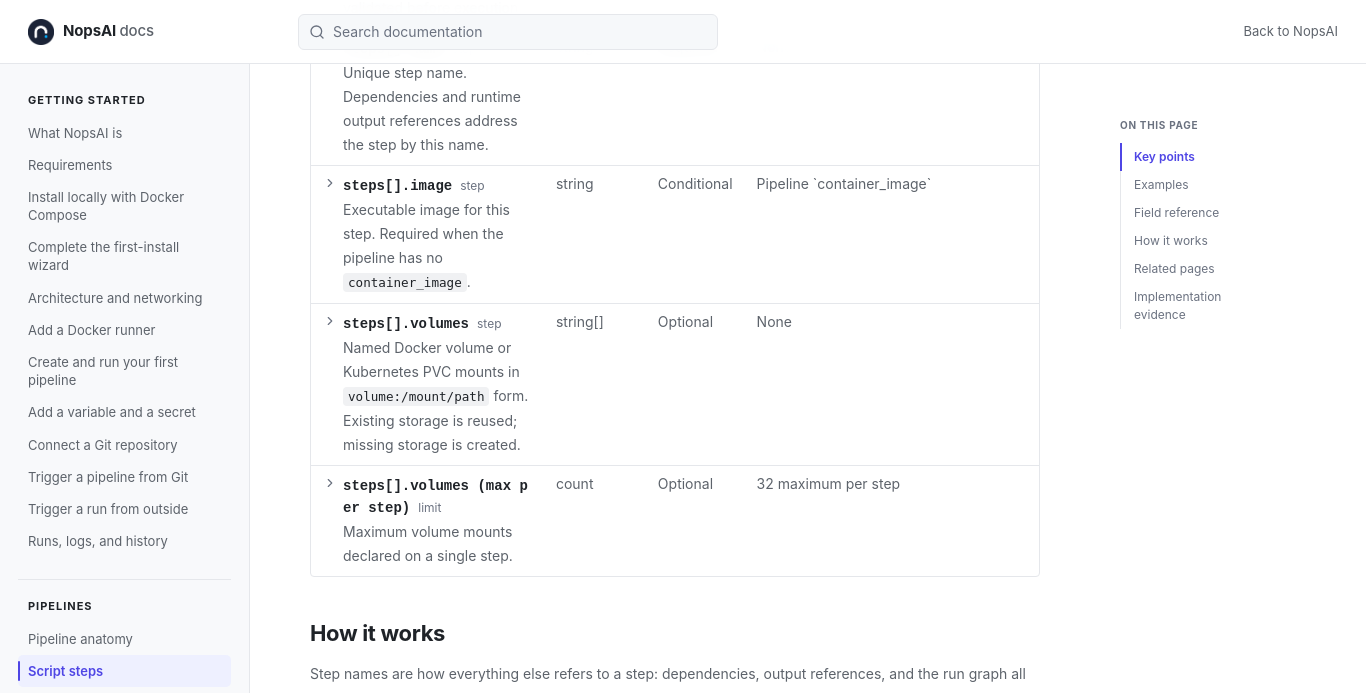
Test: ProductDocsPage › does not carry an expanded field row onto the next page
(page scrolled)
What coordinates should you click on to do the following:
click the button "Named Docker volume or Kubernetes PVC mounts"
I would click on:
 (428, 384)
Its box is [323,312,532,457].
(page scrolled)
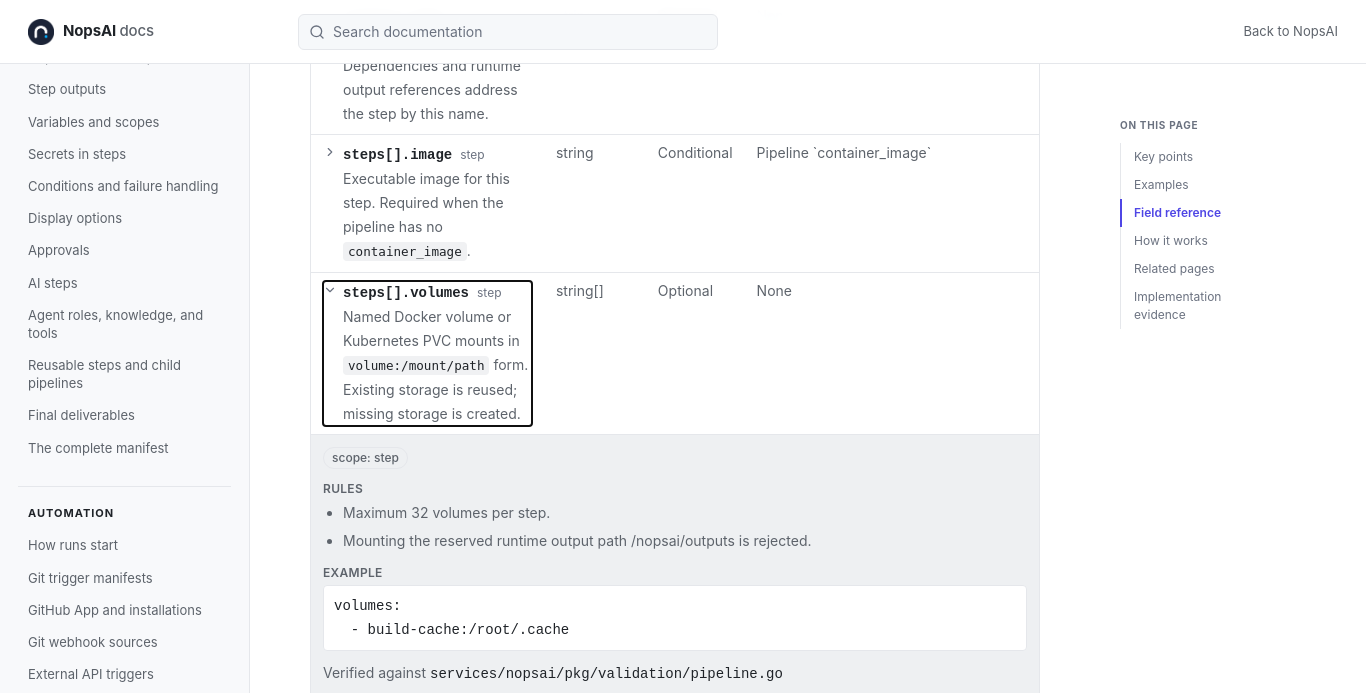
Check: the text "Mounting the reserved runtime output path /nopsai/outputs is rejected." is shown, box [343,532,812,549]
What coordinates should you click on to do the following:
click the link "Final deliverables"
I would click on:
 (81, 415)
Its box is [28,407,135,423].
(page scrolled)
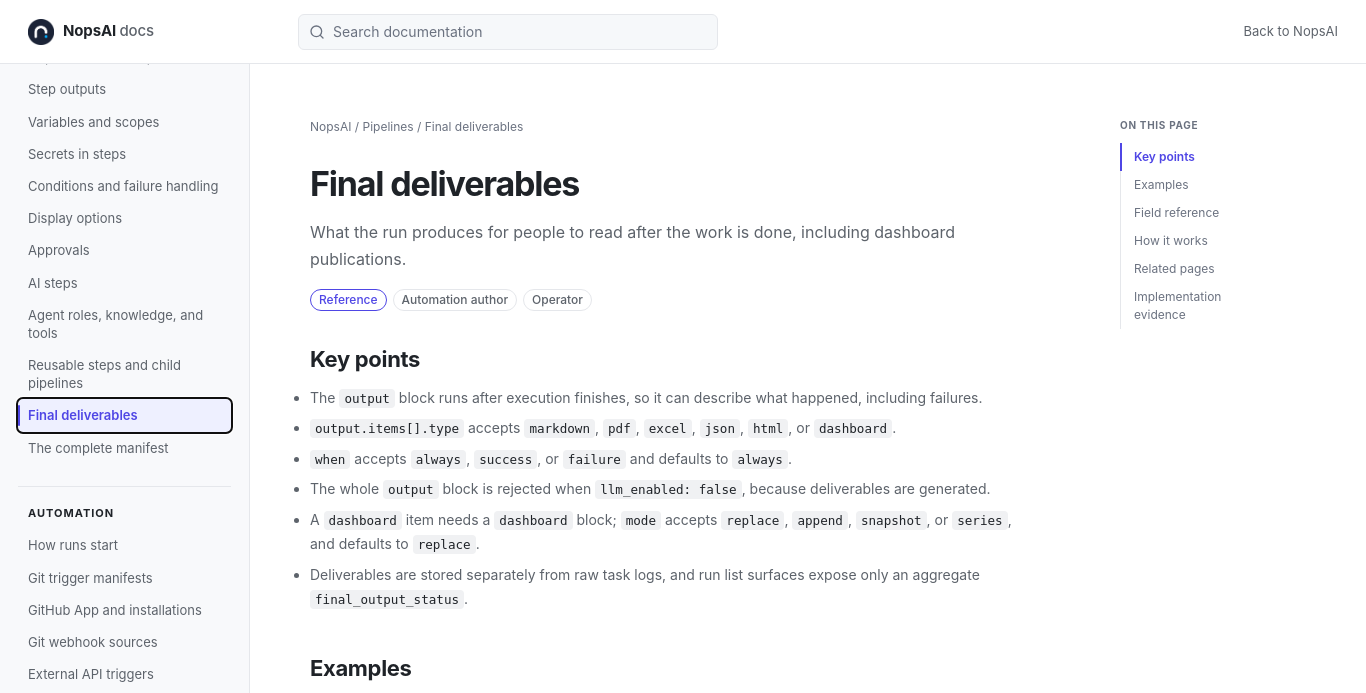
Check: the heading "Final deliverables" is shown, box [310,163,579,204]
Check: the button "steps[].volumes" is gone
Check: the text "Mounting the reserved runtime output path /nopsai/outputs is rejected." is gone
